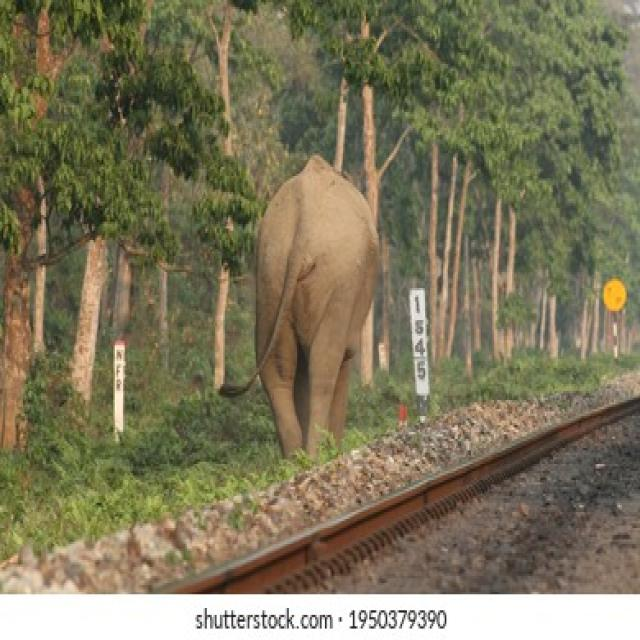Elephant: (210, 132, 411, 482)
